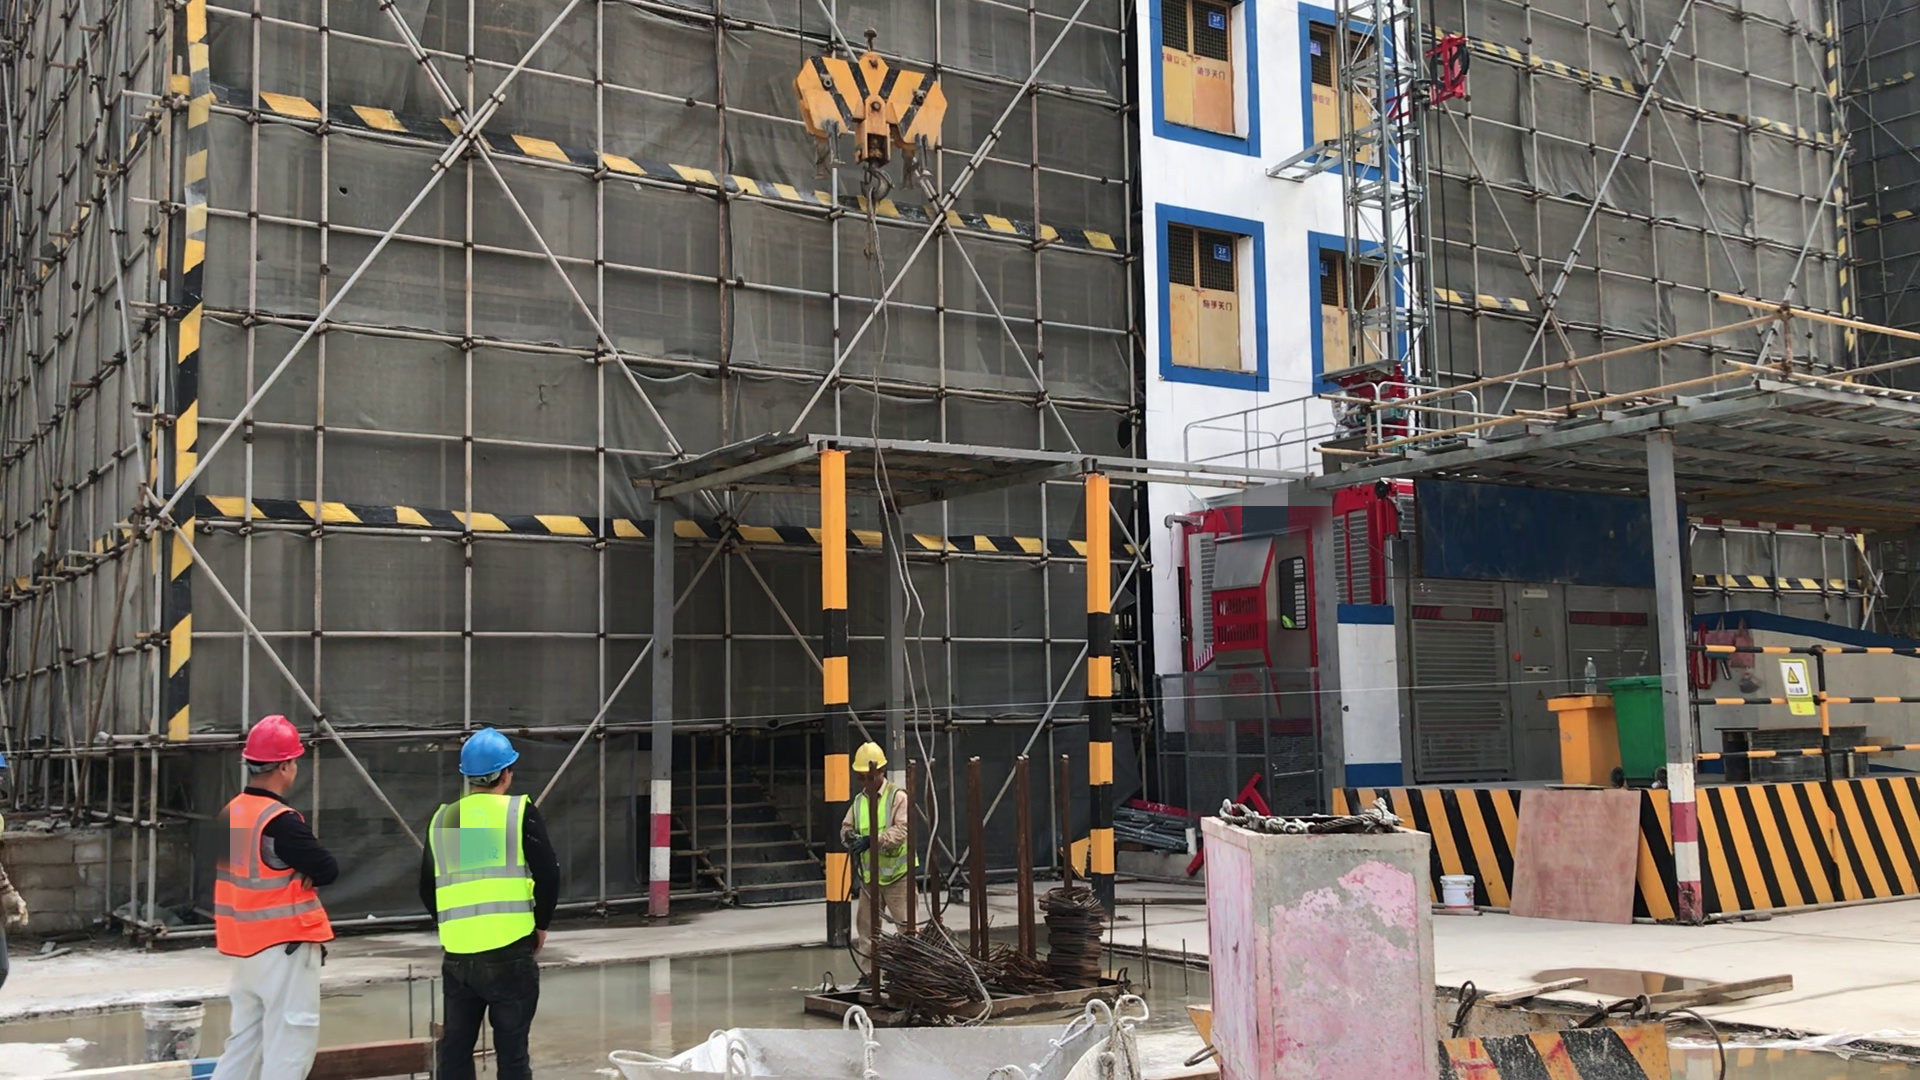helmet: (456, 726, 521, 779), (240, 716, 303, 764), (848, 742, 887, 776)
hook: (793, 45, 951, 203)
hopper: (620, 1014, 1133, 1080)
person: (207, 713, 337, 1080), (422, 728, 551, 1080), (833, 739, 925, 989)
slogan: (1775, 656, 1819, 720)
vest: (210, 791, 337, 960), (431, 793, 533, 954), (850, 783, 907, 883)
